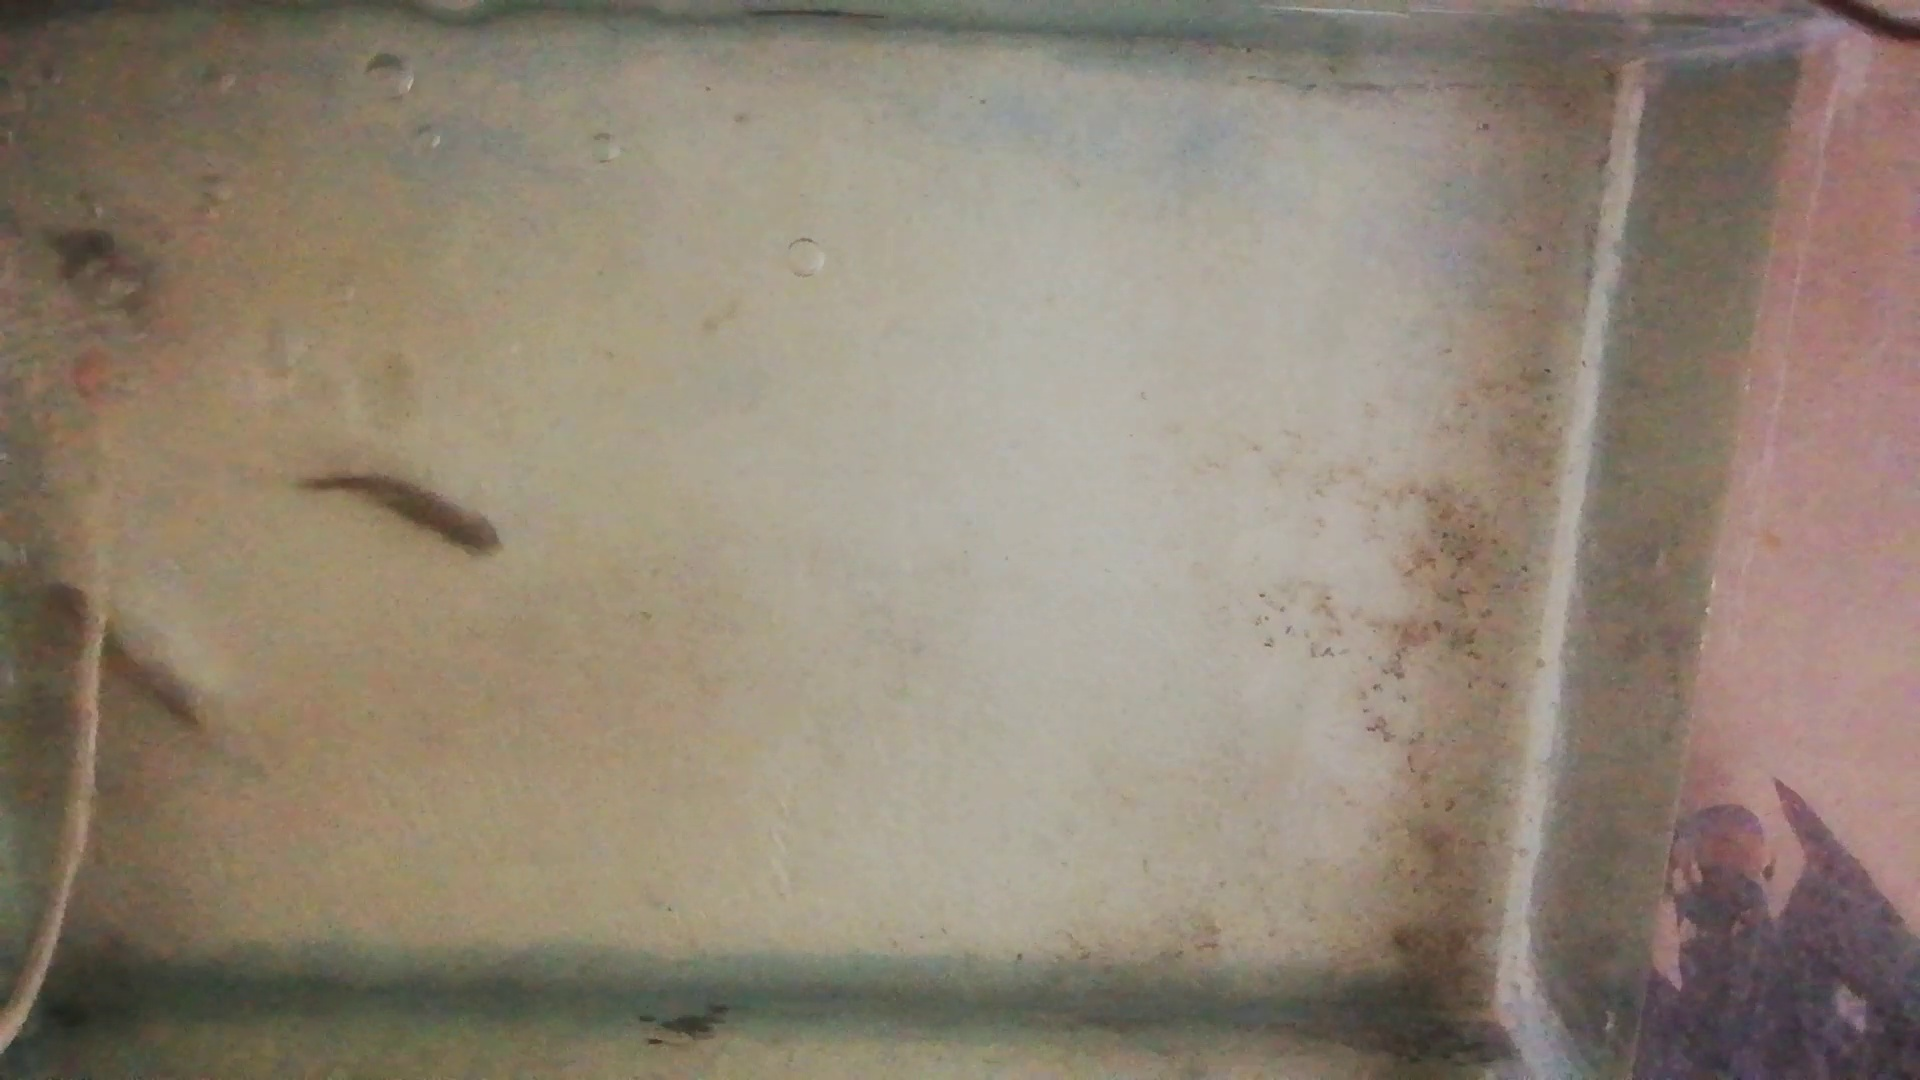fish: (40, 583, 207, 735), (291, 473, 502, 559)
